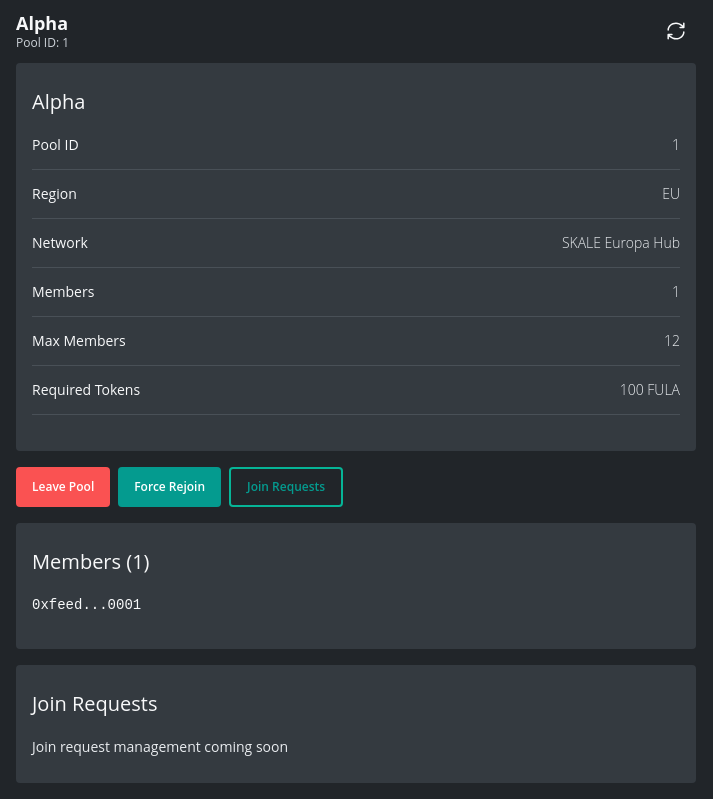
Test: PoolDetails › leave is refused before the confirm when contracts are not ready
The image size is (713, 799).
Click the button with test id "pool-details-leave" at {"x": 63, "y": 487}, box [16,467,110,507]
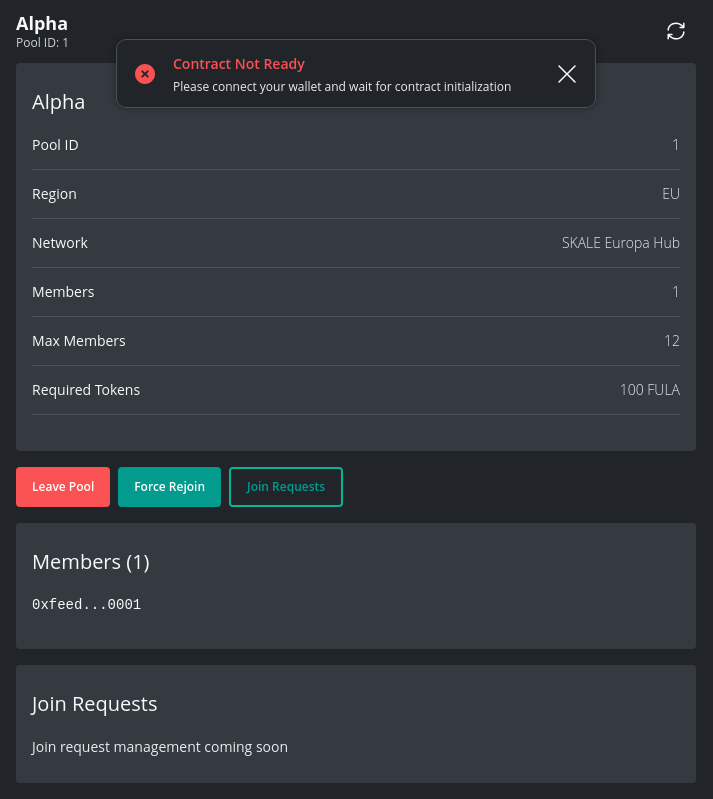
Check: the text "Contract Not Ready" is shown, box [173,52,305,76]
